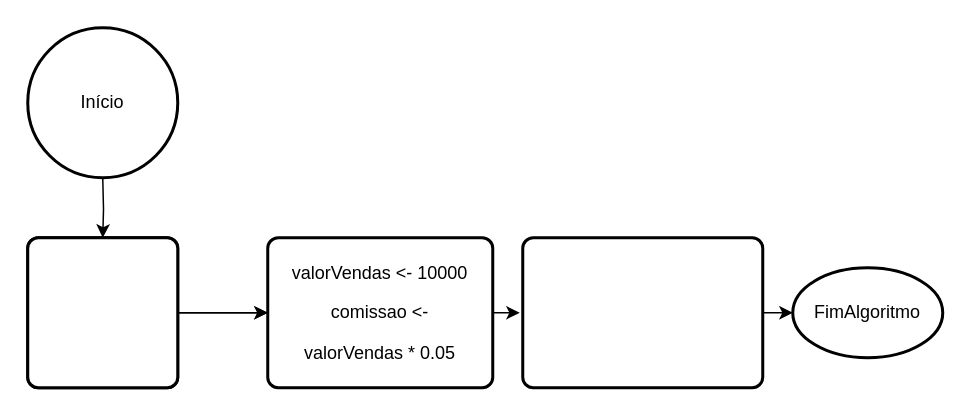
Some shapes in this 969 by 417 pixel diagram are drawn without their labels. Here are the shapes that lost their labels. From the top down, the centre of each, then its label:
pixel 102 312: var valorVendas, comissao: real
pixel 642 312: escreva("O valor da comissão do vendedor é de R$", comissao)
